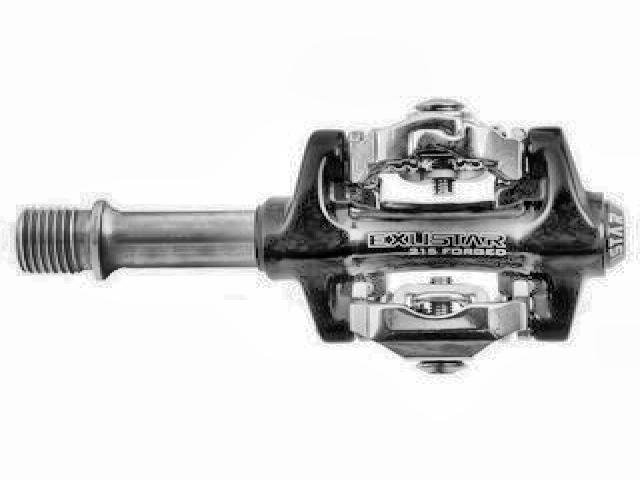pedal: (13, 96, 630, 385)
